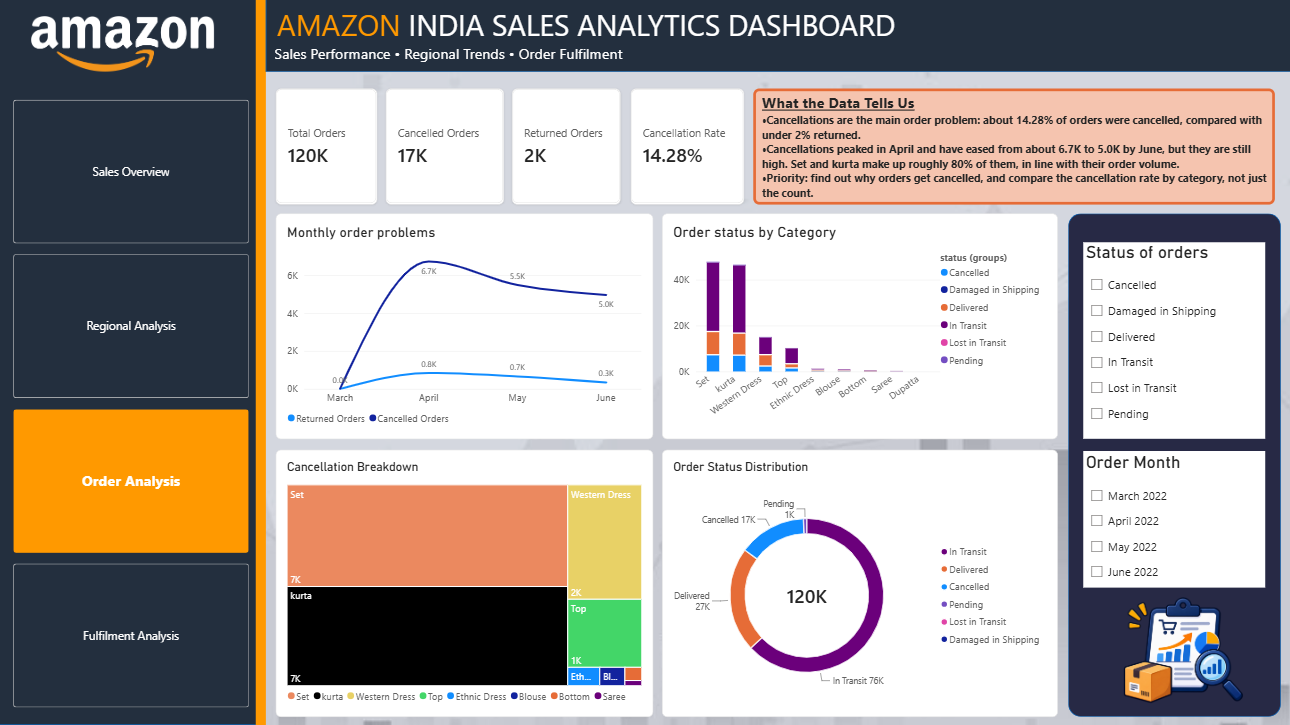

What the dashboard file says about the page in this screenshot:
{"tool":"powerbi","page":{"name":"Order Analysis","canvas":[1920,1080],"ordinal":2},"visuals":[{"type":"shape","box":[0,0,396.7,1080],"z":0},{"type":"shape","box":[382.5,0,15,1080],"z":1000},{"type":"image","box":[0,30,372,82],"z":2000},{"type":"shape","box":[398.1,0,1521.9,112.2],"z":3000},{"type":"textbox","box":[411.8,13.7,923.5,78.4],"z":4000},{"type":"textbox","box":[411.8,70.6,1145.1,41.2],"z":5000},{"type":"pageNavigator","box":[23.5,152.9,349,902],"z":6000},{"type":"cardVisual","title":"Total recorded amount","fields":{"Data":["amazon_sales_mysql_ready_v3.Returned Orders"]},"box":[763.7,137.5,161.1,171.9],"z":7000},{"type":"cardVisual","fields":{"Data":["amazon_sales_mysql_ready_v3.Total Orders"]},"box":[412.6,137.5,150.2,171.9],"z":8000},{"type":"cardVisual","fields":{"Data":["amazon_sales_mysql_ready_v3.Cancellation Rate"]},"box":[939.2,137.5,168.3,171.9],"z":9000},{"type":"cardVisual","fields":{"Data":["amazon_sales_mysql_ready_v3.Cancelled Orders"]},"box":[575.5,137.5,175.5,171.9],"z":10000},{"type":"lineChart","title":"Monthly order problems","fields":{"Category":["amazon_sales_mysql_ready_v3.order_month.Variation.Date Hierarchy.Month","amazon_sales_mysql_ready_v3.order_month.Variation.Date Hierarchy.Day"],"Y":["amazon_sales_mysql_ready_v3.Returned Orders","amazon_sales_mysql_ready_v3.Cancelled Orders"]},"box":[412.6,322.1,559.2,334.8],"z":11000},{"type":"columnChart","title":"Order status by Category","fields":{"Category":["amazon_sales_mysql_ready_v3.category"],"Series":["amazon_sales_mysql_ready_v3.status (groups)"],"Y":["amazon_sales_mysql_ready_v3.Total Orders"]},"box":[984.5,322.1,586.3,334.8],"z":12000},{"type":"shape","box":[1587.1,322.1,314.9,745.6],"z":13000},{"type":"slicer","title":"Status of orders","fields":{"Values":["amazon_sales_mysql_ready_v3.status (groups)"]},"box":[1608.8,365.6,269.6,291.4],"z":14000},{"type":"treemap","title":"Cancellation Breakdown","fields":{"Group":["amazon_sales_mysql_ready_v3.category"],"Values":["amazon_sales_mysql_ready_v3.Cancelled Orders"]},"box":[412.6,671.4,559.2,396.3],"z":15000},{"type":"donutChart","title":"Order Status Distribution","fields":{"Category":["amazon_sales_mysql_ready_v3.status (groups)"],"Y":["amazon_sales_mysql_ready_v3.Total Orders"]},"box":[984.5,671.4,586.3,396.3],"z":16000},{"type":"textbox","box":[1120.2,137.5,772.7,171.9],"z":17000},{"type":"slicer","title":"Order  Month","fields":{"Values":["amazon_sales_mysql_ready_v3.order_month"]},"box":[1608.8,673.2,269.6,202.7],"z":18000},{"type":"image","box":[1601.5,875.9,300.4,191.8],"z":19000}]}

Visuals, with their boxes in screenshot pixels (x1, y1, x2, y2), scaled from the page's 1920x1080 canvas onto the 1290x725 screenshot:
shape: (0,0,267,724)
shape: (257,0,267,724)
image: (0,20,250,75)
shape: (267,0,1289,75)
textbox: (277,9,897,62)
textbox: (277,47,1046,75)
pageNavigator: (16,103,250,708)
"Total recorded amount" cardVisual: (513,92,621,208)
cardVisual - amazon_sales_mysql_ready_v3.Total Orders: (277,92,378,208)
cardVisual - amazon_sales_mysql_ready_v3.Cancellation Rate: (631,92,744,208)
cardVisual - amazon_sales_mysql_ready_v3.Cancelled Orders: (387,92,505,208)
"Monthly order problems" lineChart: (277,216,653,441)
"Order status by Category" columnChart: (661,216,1055,441)
shape: (1066,216,1278,717)
"Status of orders" slicer: (1081,245,1262,441)
"Cancellation Breakdown" treemap: (277,451,653,717)
"Order Status Distribution" donutChart: (661,451,1055,717)
textbox: (753,92,1272,208)
"Order  Month" slicer: (1081,452,1262,588)
image: (1076,588,1278,717)
